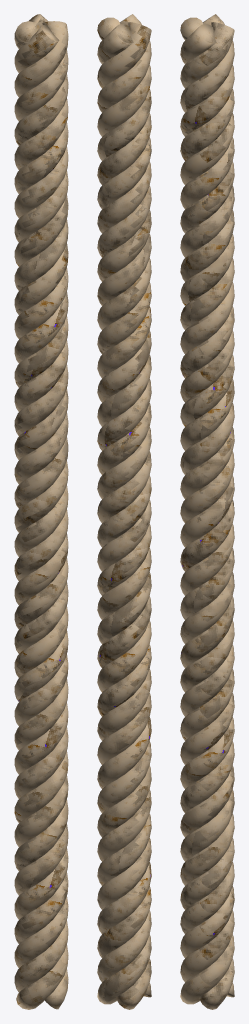
The model's file is rope.glb.
3 renders of one model, left to right at view 1: azimuth 90°, elevation 25°; view 2: azimuth 150°, elevation 25°; view 3: azimuth 330°, elevation 25°, orthographic.
Parts seen in each view (by area): view 1: Circle.003; view 2: Circle.003; view 3: Circle.003.
Boxes of the visible parts, x1,y1,x2,y2 form: Circle.003: (14,14,68,1009); Circle.003: (97,14,151,1009); Circle.003: (180,14,234,1009).
Size of the model in its own units: 0.101 by 2.02 by 0.101.
1 material, 1 textured.
